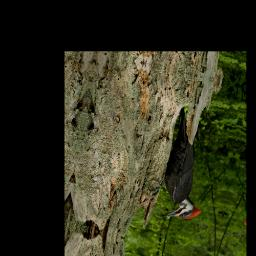Woodpecker: (144, 101, 220, 226)
